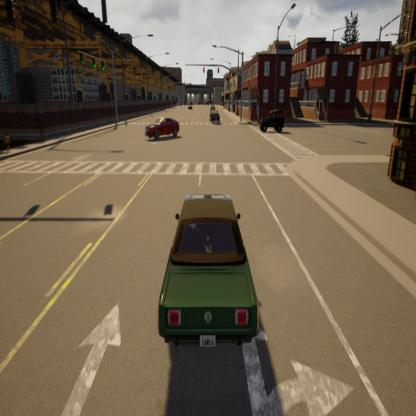Cars: (147, 172, 267, 390), (139, 103, 183, 163), (255, 106, 291, 141), (206, 96, 222, 133), (186, 100, 195, 114)
